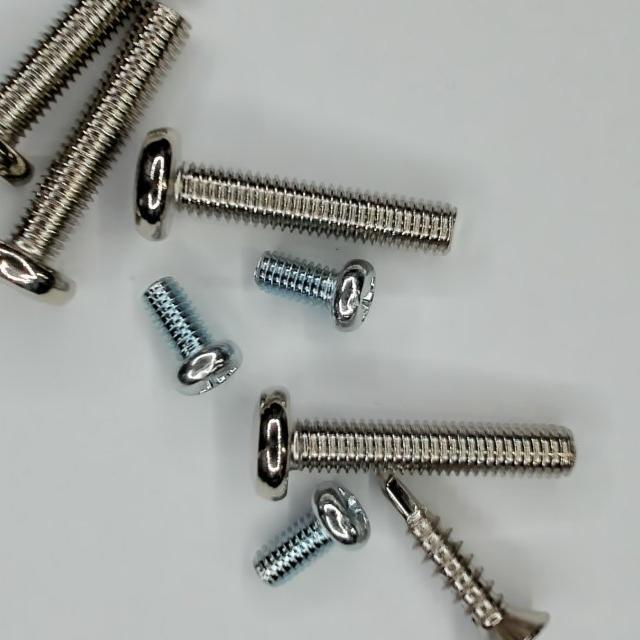Screw: (0, 3, 188, 294), (135, 128, 458, 250), (258, 391, 577, 500), (385, 476, 551, 640), (0, 0, 144, 182), (144, 277, 242, 394), (256, 487, 371, 586), (255, 252, 376, 330)
